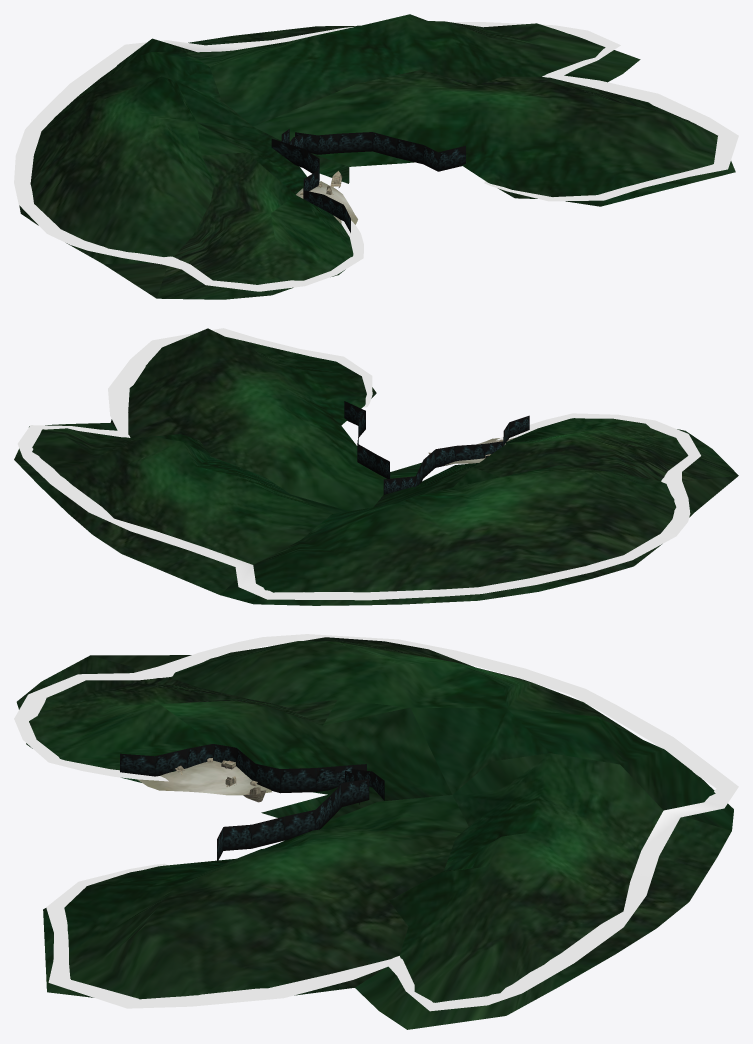
The model's file is pir_m_are_isl_cuba_dock_lod.fbx.
3 views of the same model, one above another, from view 1: azimuth 30°, elevation 25°; view 2: azimuth 150°, elevation 25°; view 3: azimuth 270°, elevation 25° (orthographic). The views are drawn at different scales.
Parts seen in each view (by area): view 1: hills, mesh_tide3, wall, beach; view 2: hills, mesh_tide3, wall; view 3: hills, mesh_tide3, wall, beach.
Boxes of the visible parts, box(x1,y1,x2,y2) form: hills: box(19, 14, 735, 299); mesh_tide3: box(14, 22, 738, 291); wall: box(271, 132, 465, 232); beach: box(296, 181, 357, 224); hills: box(14, 328, 738, 605); mesh_tide3: box(17, 328, 700, 600); wall: box(344, 401, 529, 487); hills: box(16, 637, 733, 1029); mesh_tide3: box(14, 634, 738, 1011); wall: box(120, 744, 369, 860); beach: box(137, 760, 271, 795).
Bounding box in the file's own units: 400625 × 37553 × 320094.
4 materials, 4 textured.
